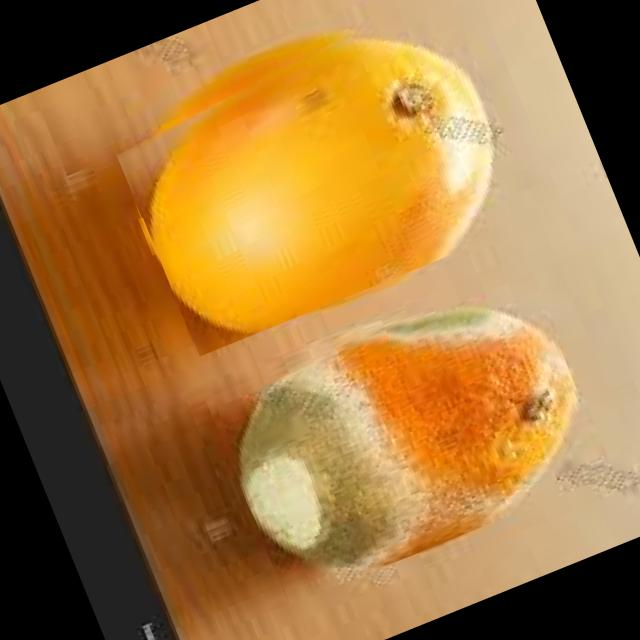Organic: (102, 0, 528, 357), (201, 262, 607, 604)
